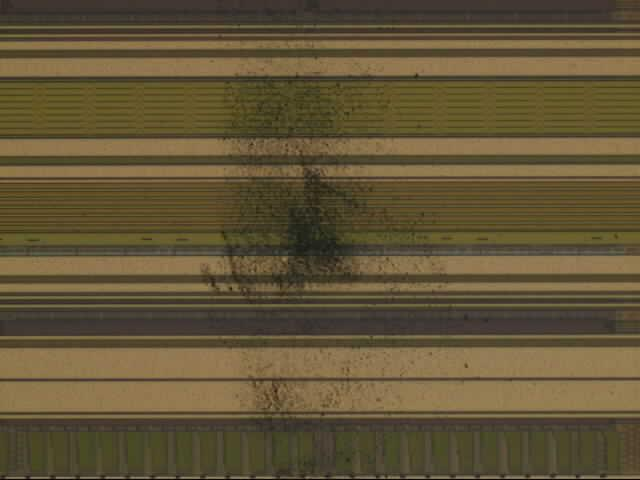PO CONTAMINATION: (180, 1, 479, 480)
